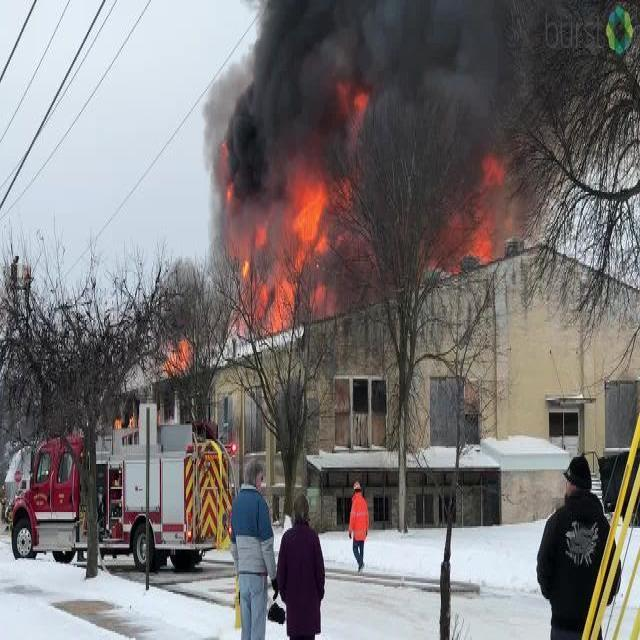Fire: (208, 173, 531, 302), (166, 338, 193, 380)
Smoke: (209, 0, 516, 141)
